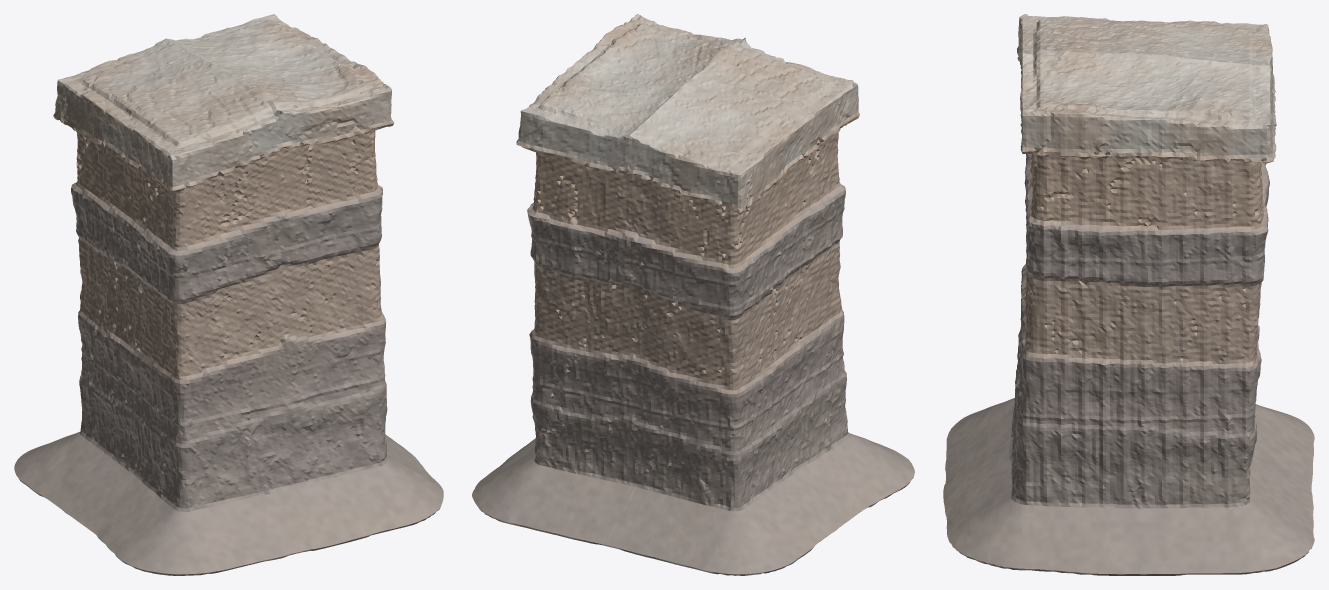
Rendered from butte_monument.glb.
3 renders of one model, left to right at view 1: azimuth 30°, elevation 25°; view 2: azimuth 150°, elevation 25°; view 3: azimuth 270°, elevation 25°, orthographic. The views are drawn at different scales.
Parts seen in each view (by area): view 1: geometry_0; view 2: geometry_0; view 3: geometry_0.
Part boxes in pixels (<box>): geometry_0: <box>14,14,443,575</box>; geometry_0: <box>472,14,914,575</box>; geometry_0: <box>943,14,1314,575</box>.
Bounding box in the file's own units: 27.87 × 33.8 × 25.79.
